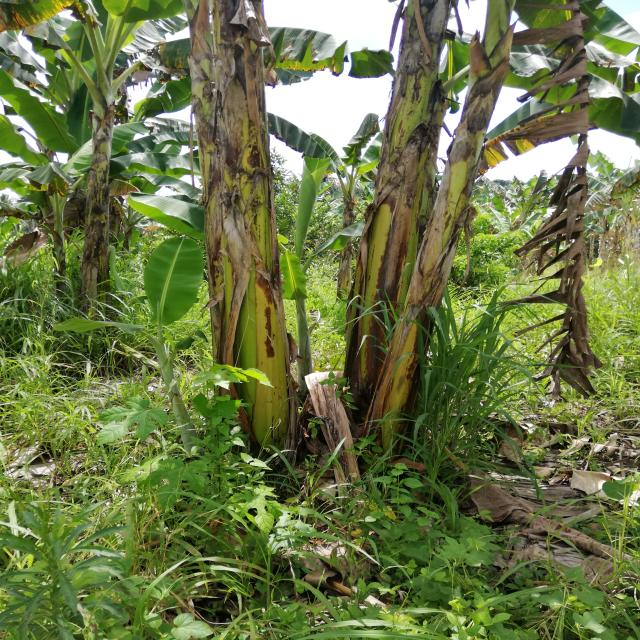Banana-plant: (350, 45, 514, 486), (335, 6, 462, 436), (187, 0, 291, 474), (59, 81, 133, 371)
